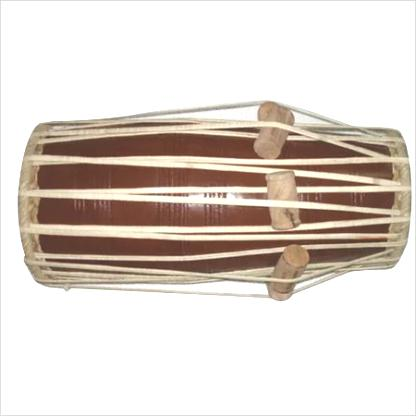Mridangam: (13, 94, 416, 308)
